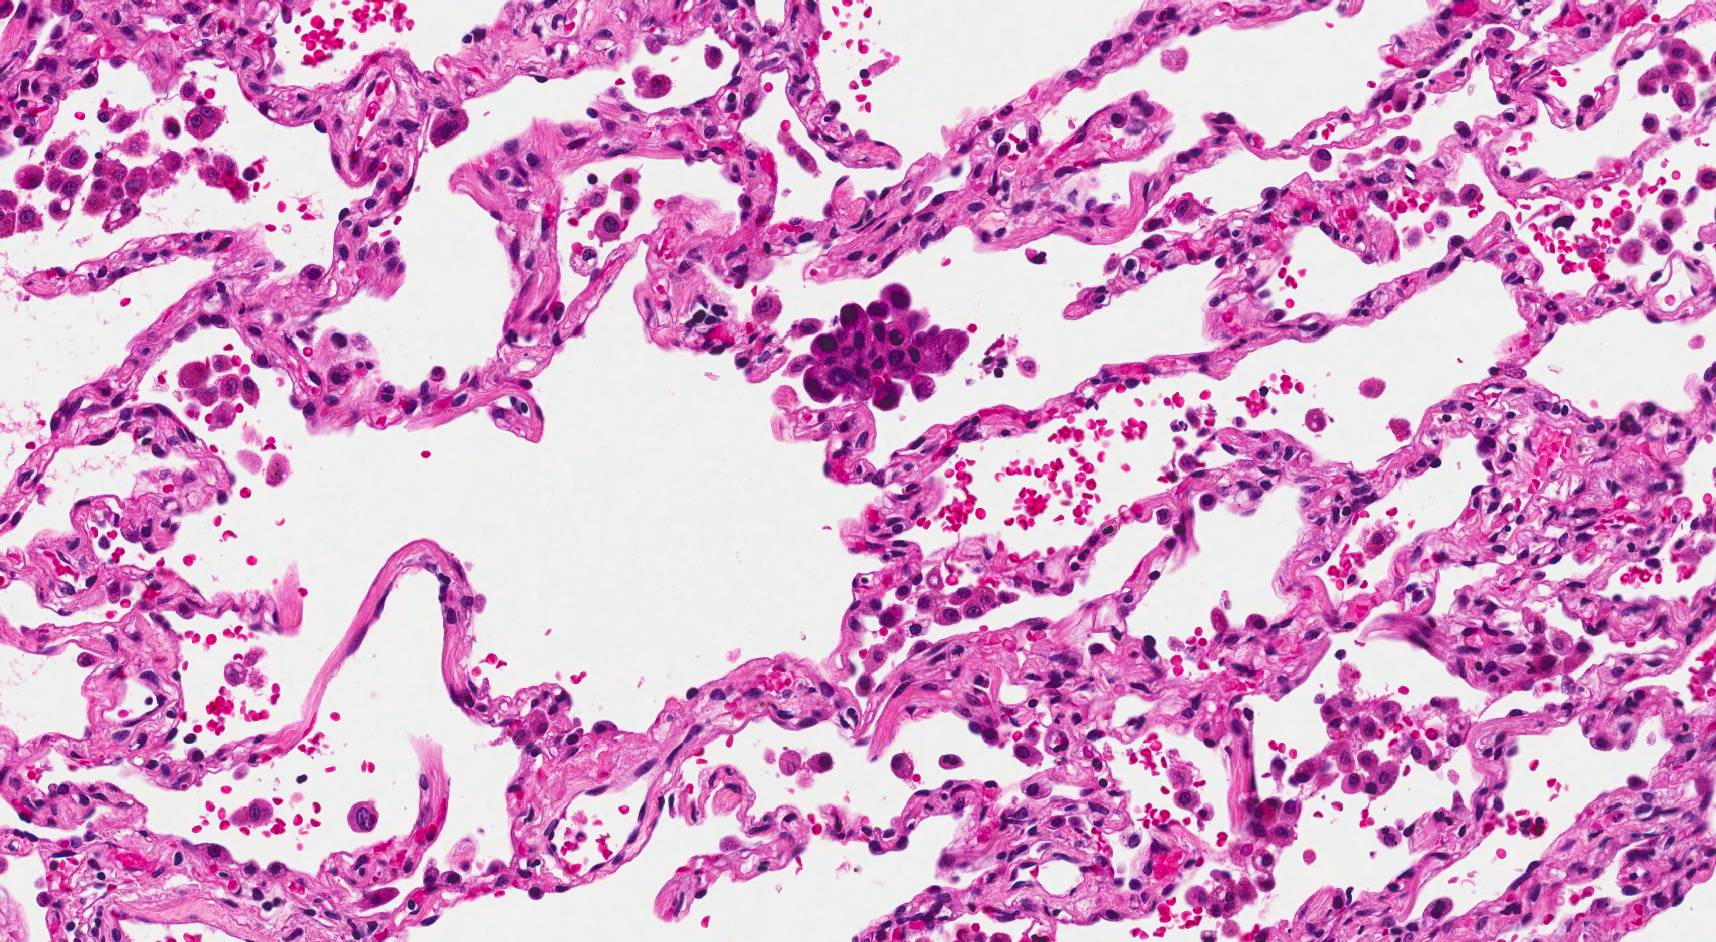stas: (803, 281, 972, 414)
